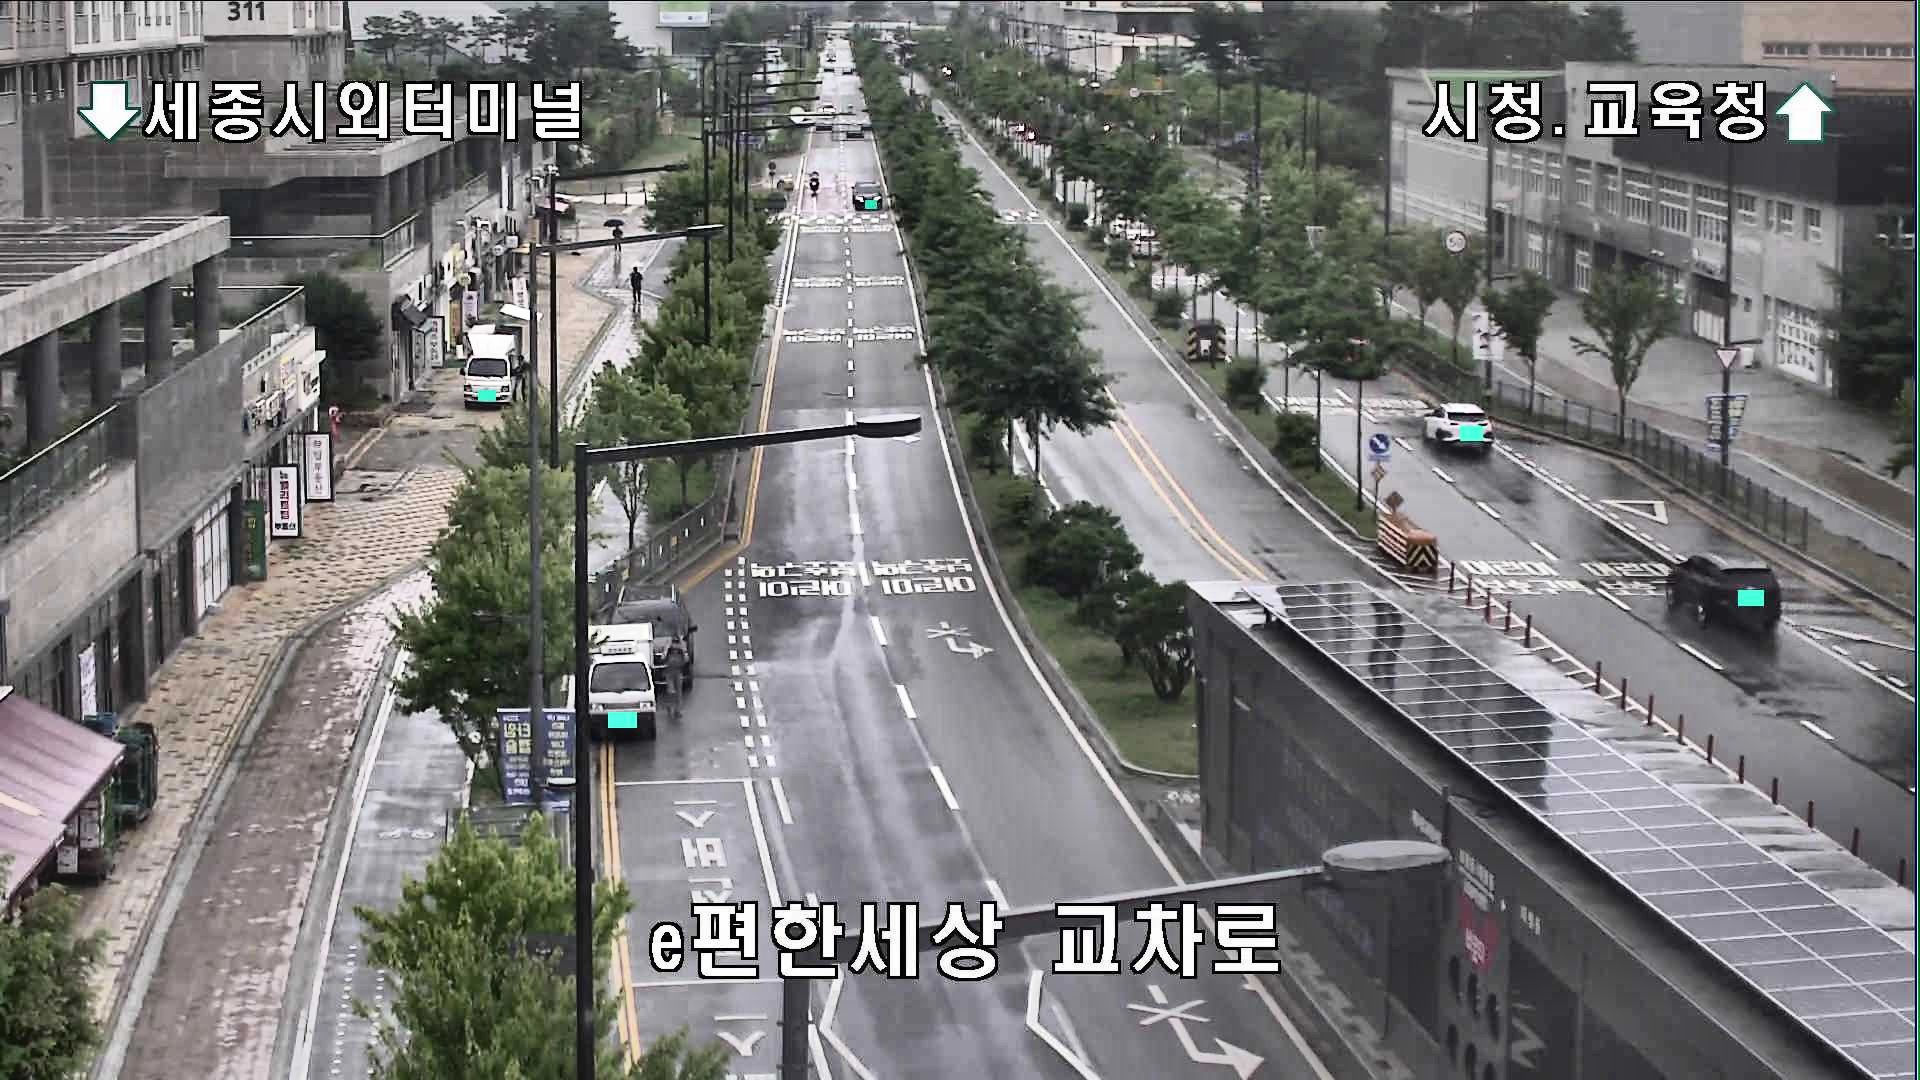jaywalk: (661, 632, 695, 721)
um_sidewalk: (624, 260, 650, 306), (603, 216, 628, 256)
